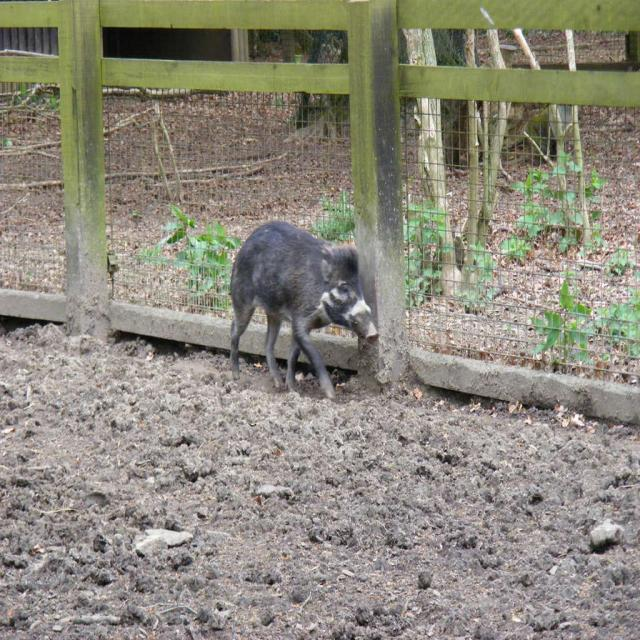Pig: (230, 220, 379, 399)
